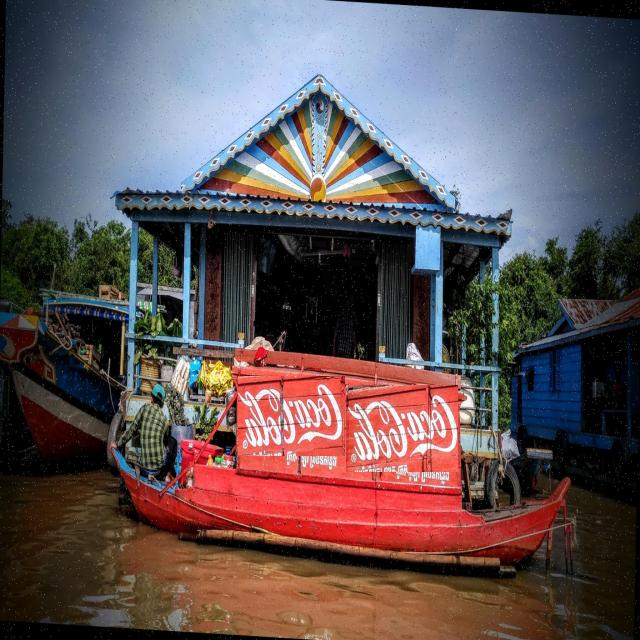coca-cola: (346, 385, 458, 472), (238, 376, 345, 456)
